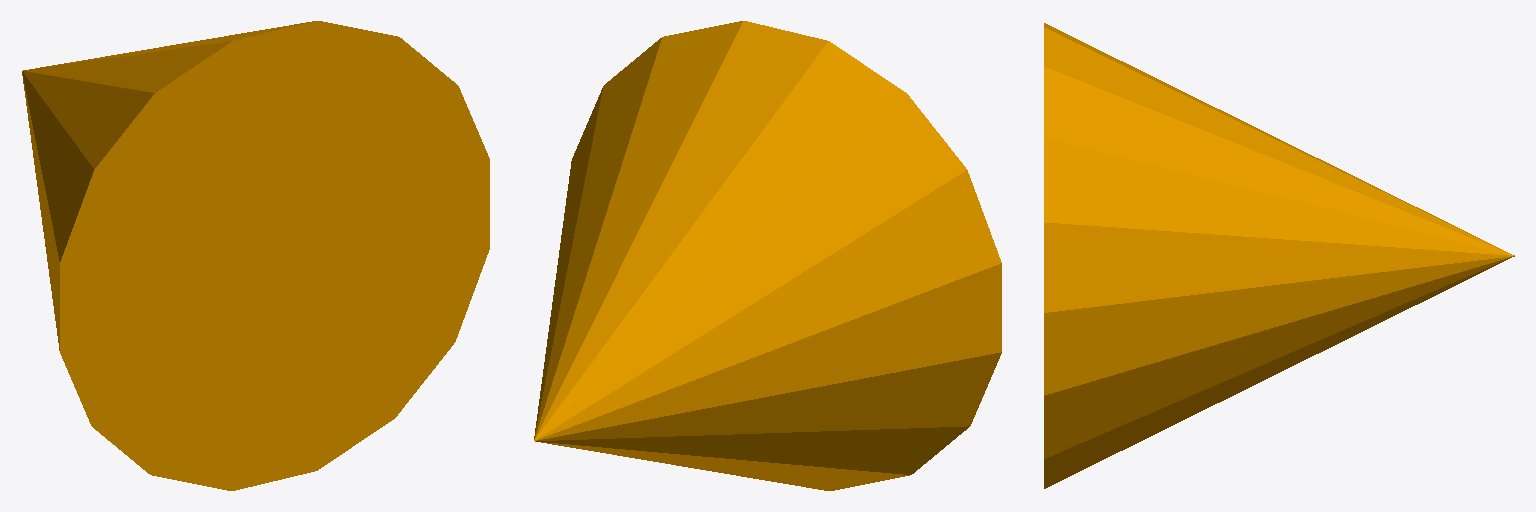
URDF robot description (object):
<?xml version="1.0"?>
<robot name="object">
  <link name="object">
    <visual>
      <origin xyz="0 0 0"/>
      <geometry>
        <mesh filename="cune_y.obj" scale="1 1 1"/>
      </geometry>
    </visual>
    <collision>
      <origin xyz="0 0 0"/>
      <geometry>
        <mesh filename="cune_y.obj" scale="1 1 1"/>
      </geometry>
    </collision>

  </link>
</robot>

--- Facts derived from the render (not from the file) ---
The picture shows the robot from 3 angles, left to right: view 1: azimuth 30°, elevation 25°; view 2: azimuth 150°, elevation 25°; view 3: azimuth 270°, elevation 25°; orthographic projection.
Model object with 1 links and 0 joints (none), rooted at object, posed every joint at zero.
Links seen in each view (by area): view 1: object; view 2: object; view 3: object.
Boxes of the visible links, box(x1,y1,x2,y2) form: object: box(22, 21, 489, 490); object: box(534, 21, 1001, 490); object: box(1044, 23, 1514, 488).
Bounding box of the posed robot: 0.9817 × 1 × 0.9817 m (x, y, z).
Meshes: 1 distinct files referenced, 1 mesh visuals loaded (1 OBJ).
